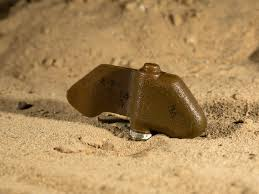butterfly: (62, 57, 212, 147)
